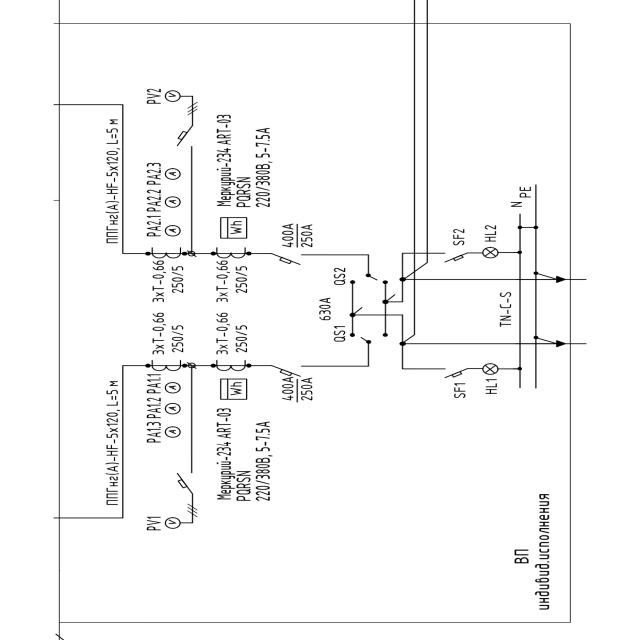-: (214, 112, 276, 210), (214, 406, 274, 503), (210, 311, 252, 356), (212, 258, 252, 304), (148, 258, 186, 305), (148, 311, 187, 355), (278, 375, 316, 403), (280, 222, 316, 250), (143, 214, 164, 240), (509, 545, 532, 568), (143, 160, 162, 187), (144, 188, 163, 214), (144, 84, 163, 108), (318, 296, 332, 322)
HL: (481, 246, 498, 260), (482, 362, 500, 375)
PA: (164, 402, 183, 416), (163, 425, 182, 438), (165, 194, 182, 208), (164, 167, 181, 181), (164, 381, 182, 394), (165, 224, 181, 238)
PV: (164, 89, 182, 103), (164, 516, 181, 529)
QF: (174, 124, 196, 150), (175, 470, 198, 494), (271, 362, 305, 378), (272, 251, 306, 266), (440, 366, 471, 379), (439, 251, 468, 264)
TT: (214, 244, 247, 260), (150, 358, 183, 372), (150, 247, 183, 260), (214, 359, 247, 371)
WH: (218, 216, 250, 240), (218, 377, 250, 400)
switch: (349, 330, 388, 344), (349, 275, 390, 288)
